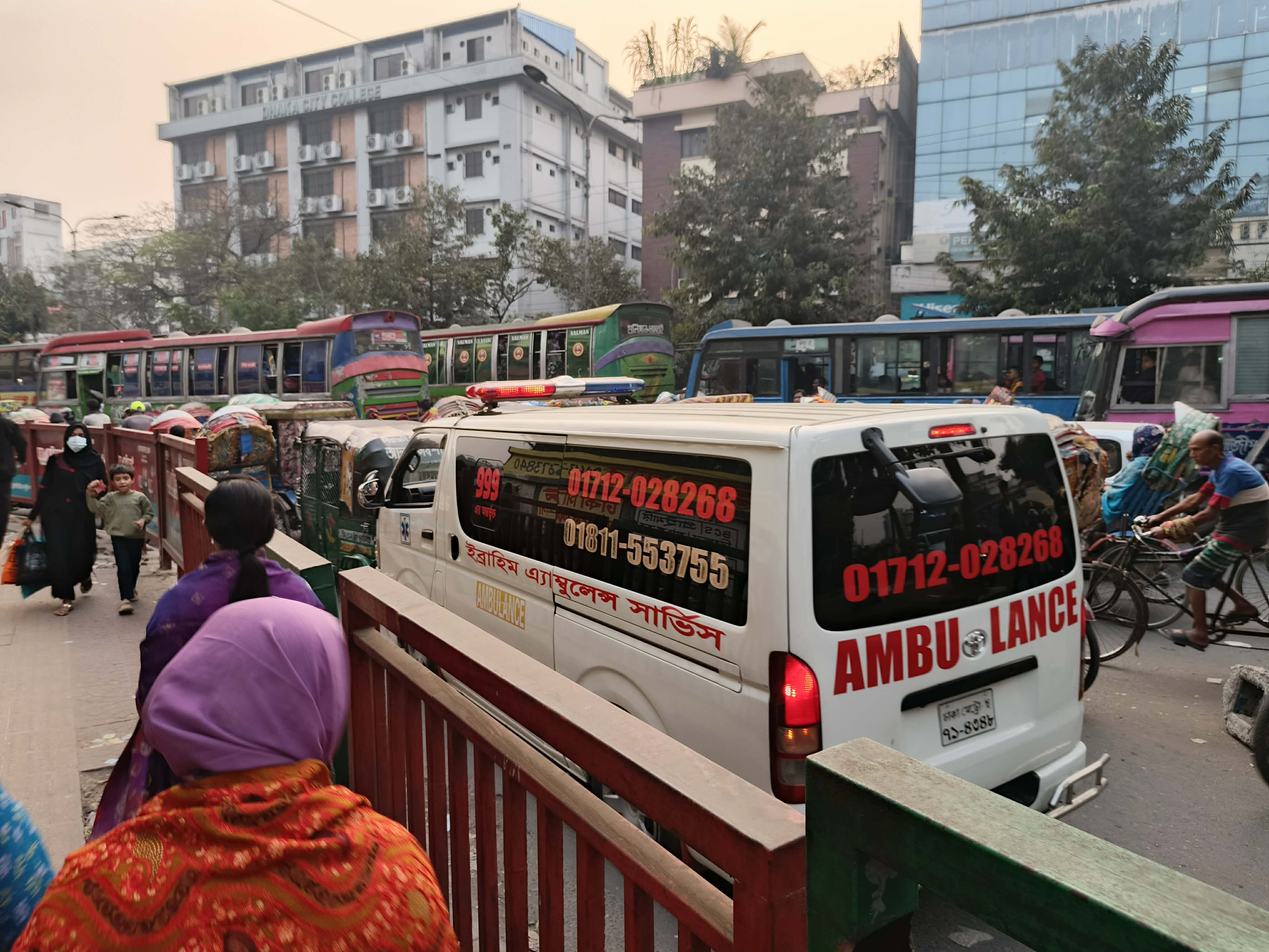Ambulance: (359, 360, 1111, 819)
